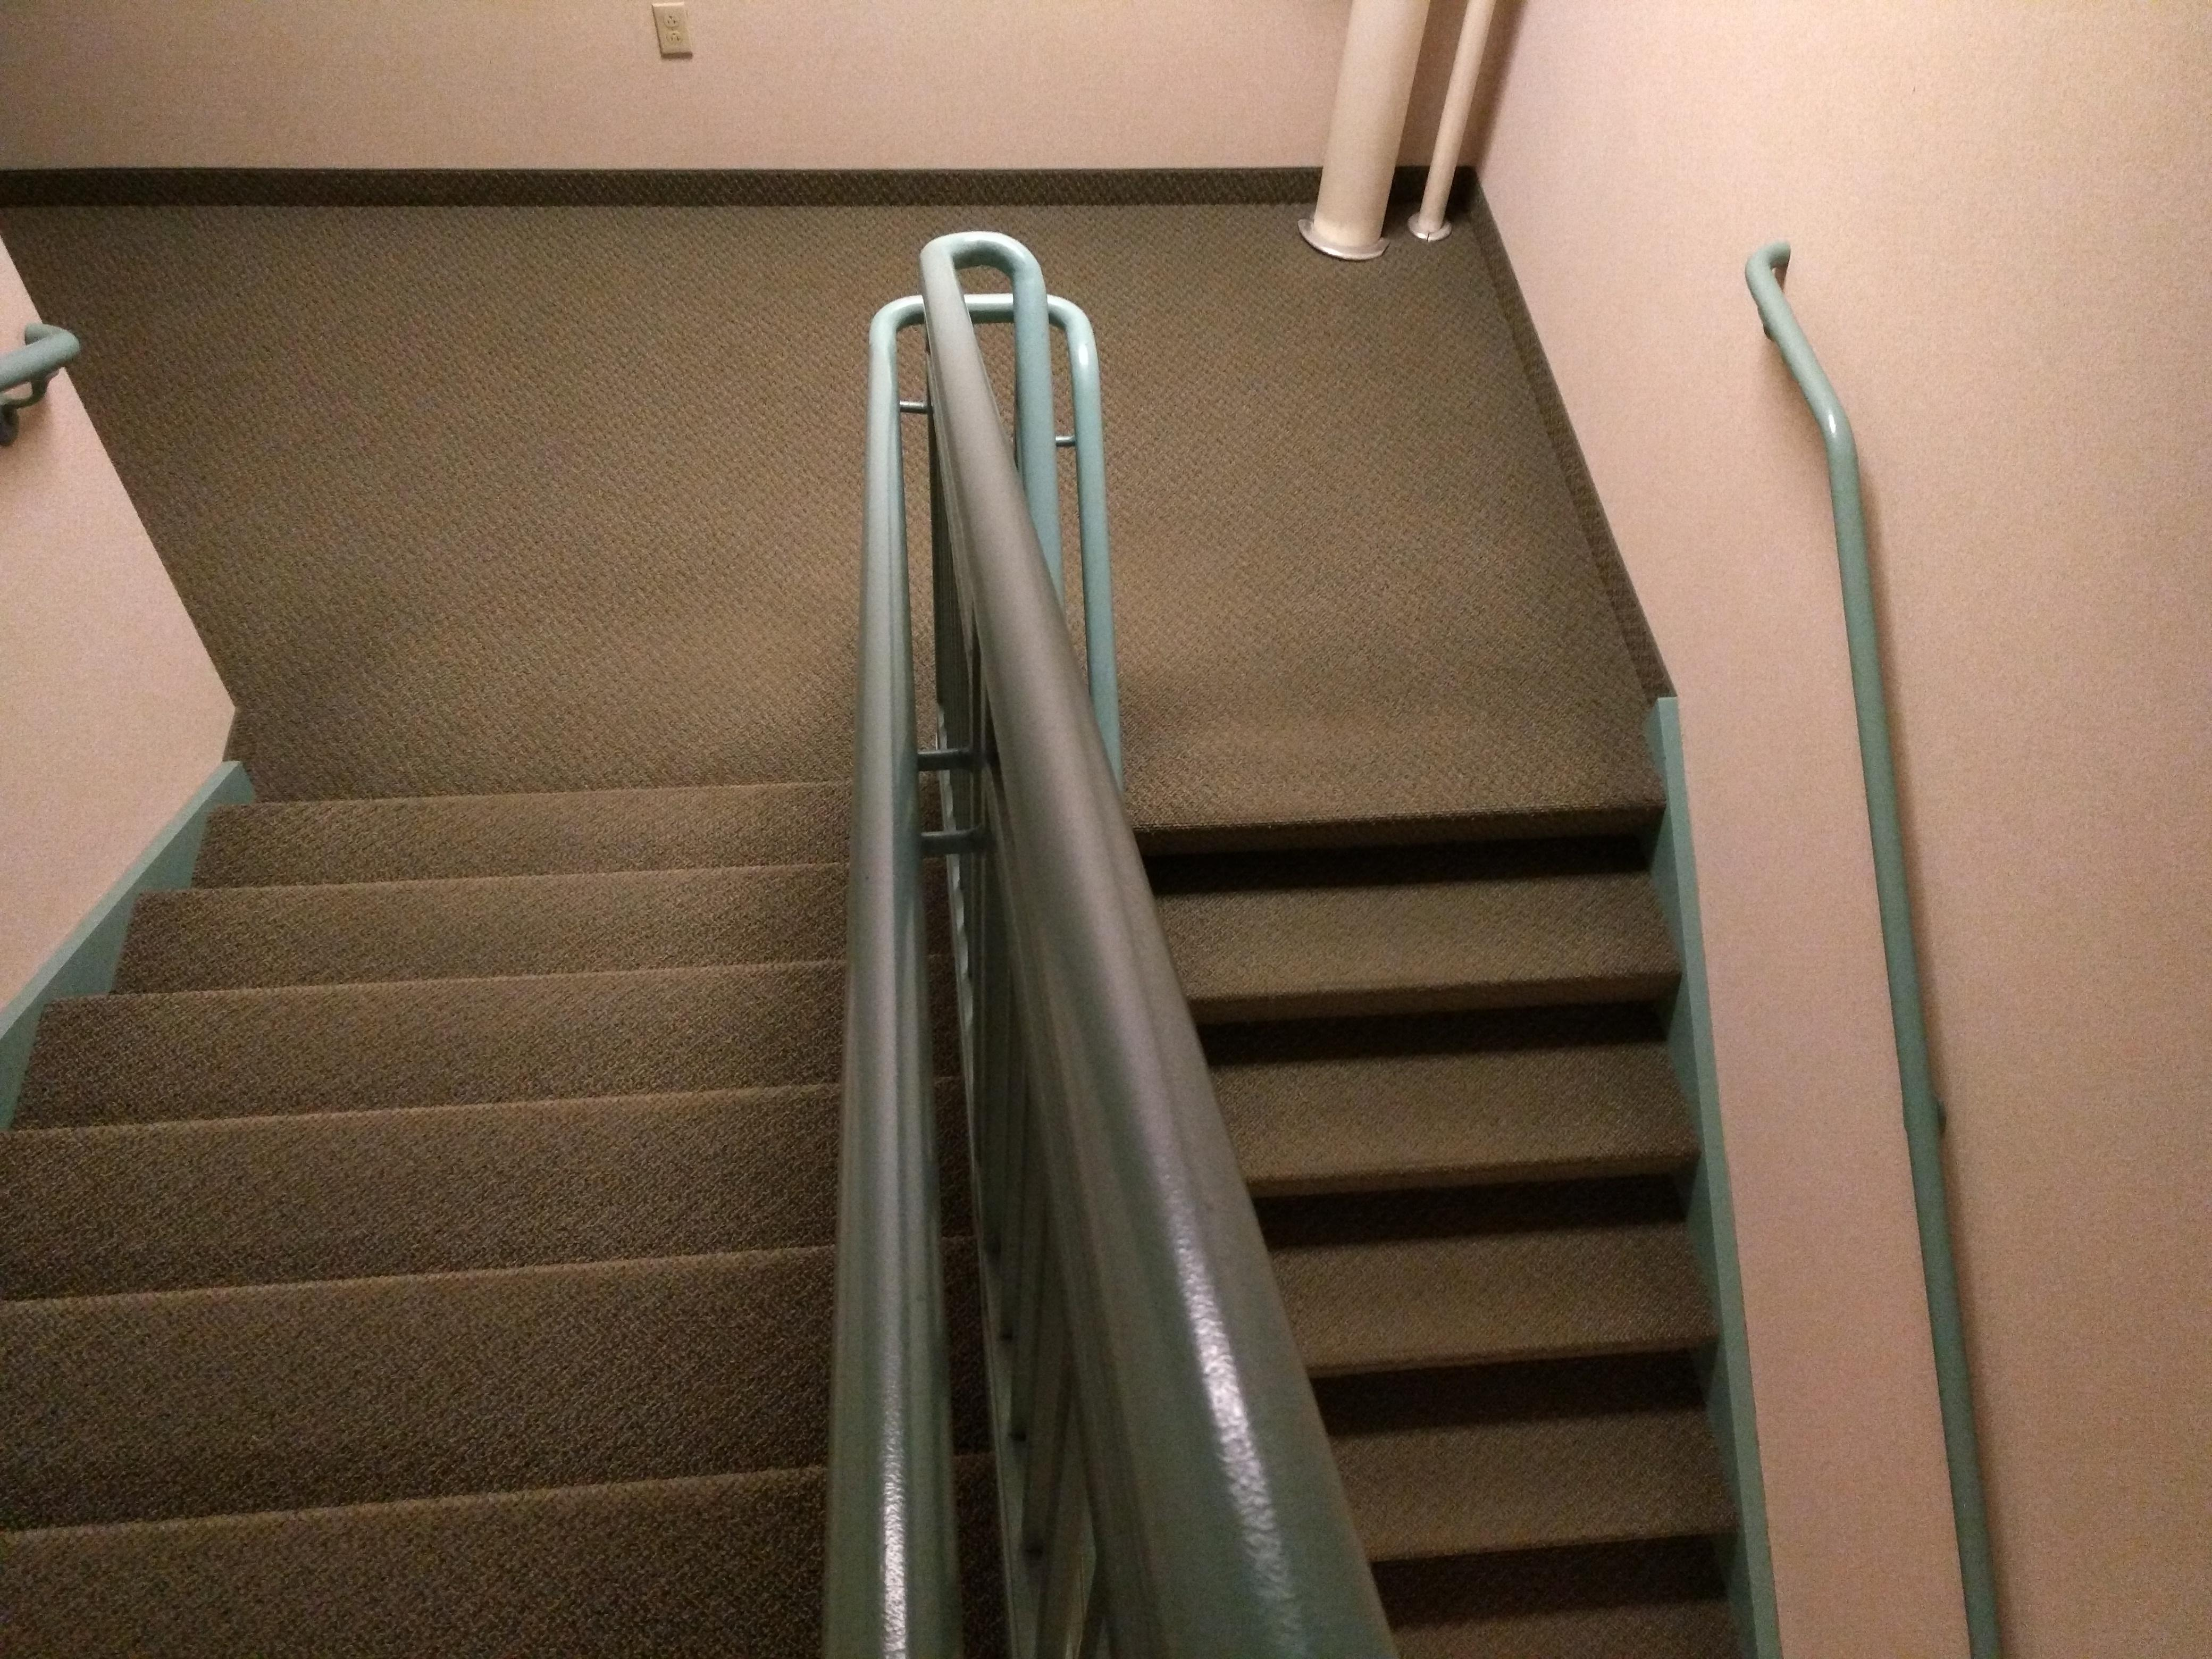stairs_down: (9, 744, 840, 1635)
stairs_up: (1116, 791, 1881, 1629)
